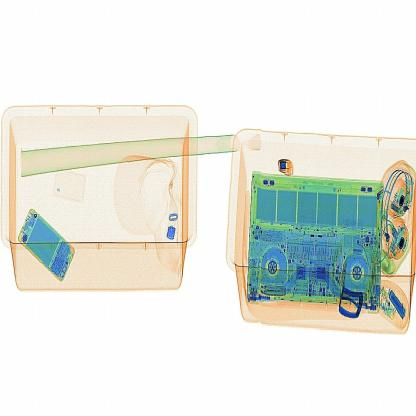wrench: (272, 156, 306, 185)
